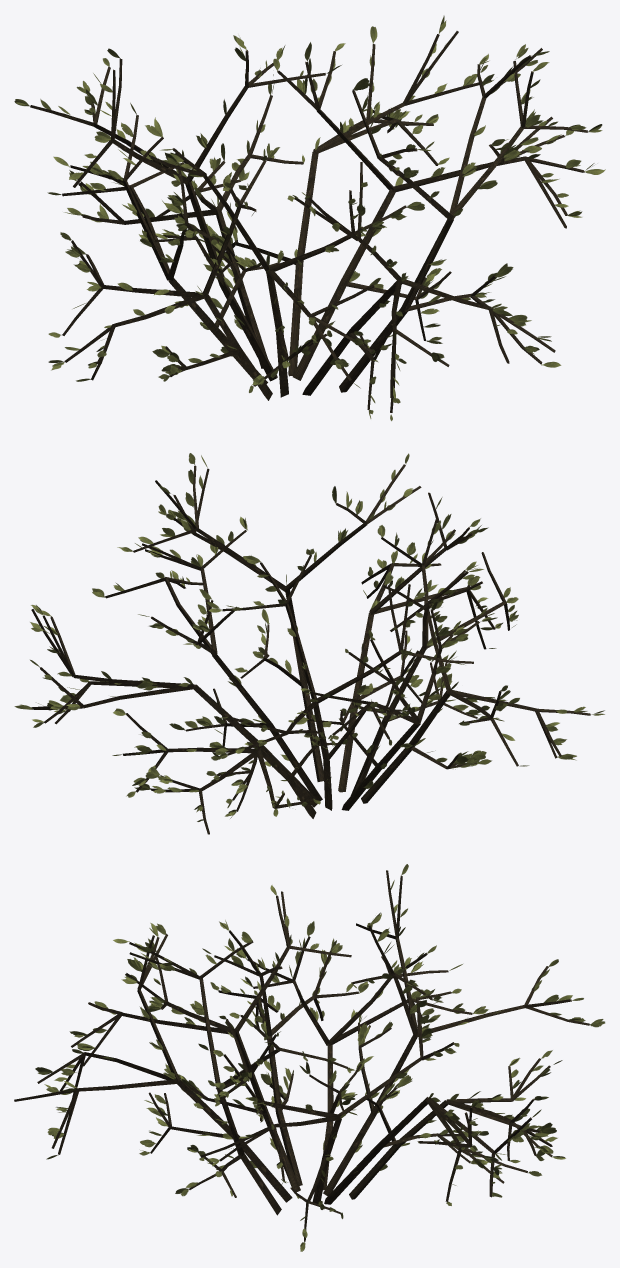
The model's file is thorn_scrub_v02_LOD1.glb.
3 views of the same model, one above another, from view 1: azimuth 30°, elevation 25°; view 2: azimuth 150°, elevation 25°; view 3: azimuth 270°, elevation 25° (orthographic). The views are drawn at different scales.
Parts seen in each view (by area): view 1: thorn_scrub_v02_LOD1; view 2: thorn_scrub_v02_LOD1; view 3: thorn_scrub_v02_LOD1.
Boxes of the visible parts, <box> form: thorn_scrub_v02_LOD1: <box>14,15,605,420</box>; thorn_scrub_v02_LOD1: <box>14,453,604,834</box>; thorn_scrub_v02_LOD1: <box>14,864,605,1251</box>.
Size of the model in its own units: 3.4 by 1.92 by 3.6.
Materials: 2 (2 with a texture image).
